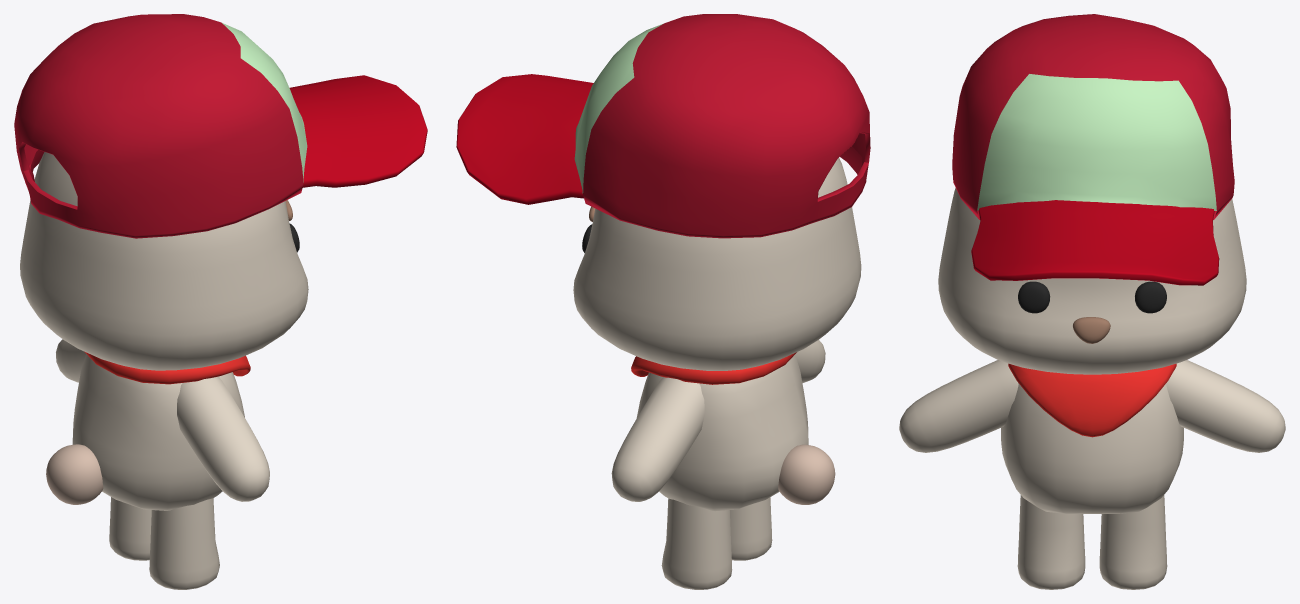
The model's file is conejogorra.glb.
3 renders of one model, left to right at view 1: azimuth 30°, elevation 25°; view 2: azimuth 150°, elevation 25°; view 3: azimuth 270°, elevation 25°, orthographic. The views are drawn at different scales.
Parts seen in each view (by area): view 1: bunny1_arms, polySurface3; view 2: bunny1_arms, polySurface3; view 3: bunny1_arms, polySurface3.
Part boxes in pixels (box(x1,y1,x2,y2)): bunny1_arms: box(20, 152, 308, 589); polySurface3: box(14, 14, 427, 238); bunny1_arms: box(573, 158, 861, 589); polySurface3: box(456, 14, 870, 238); bunny1_arms: box(899, 188, 1285, 589); polySurface3: box(952, 14, 1234, 285).
Bounding box in the file's own units: 0.9284 × 1.27 × 0.8189.
